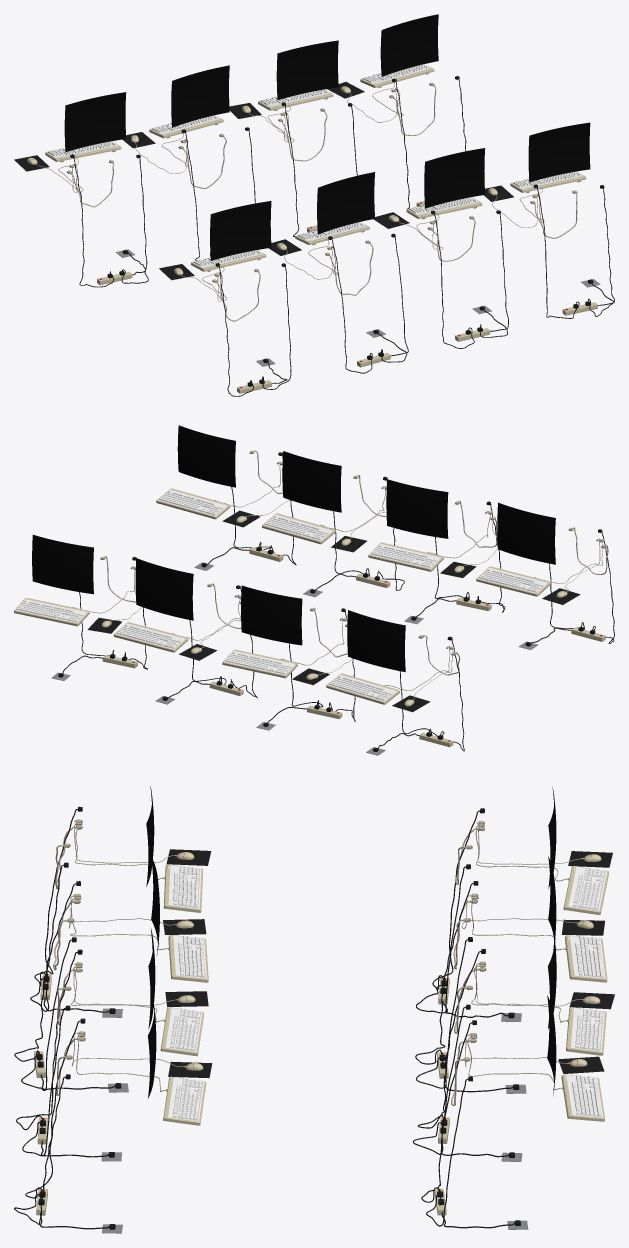
The model's file is FurnitureCharted.fbx.
The picture shows the model from 3 angles, top to bottom: view 1: azimuth 30°, elevation 25°; view 2: azimuth 150°, elevation 25°; view 3: azimuth 270°, elevation 25°; orthographic projection. The views are drawn at different scales.
Visible parts, largest first — view 1: Station 0 rest, Station 7 rest, Station 1 rest, Station 3 rest, Station 2 rest, Station 5 rest, Station 4 rest, Station 6 rest; view 2: Station 2 rest, Station 3 rest, Station 6 rest, Station 7 rest, Station 4 rest, Station 1 rest, Station 5 rest, Station 0 rest; view 3: Station 2 rest, Station 4 rest, Station 6 rest, Station 0 rest, Station 1 rest, Station 5 rest, Station 7 rest, Station 3 rest.
Part boxes in pixels (x1=…): Station 0 rest: x1=484, y1=122, x2=614, y2=318; Station 7 rest: x1=14, y1=92, x2=148, y2=287; Station 1 rest: x1=373, y1=148, x2=508, y2=348; Station 3 rest: x1=159, y1=201, x2=291, y2=396; Station 2 rest: x1=269, y1=172, x2=408, y2=373; Station 5 rest: x1=229, y1=40, x2=357, y2=236; Station 4 rest: x1=327, y1=14, x2=466, y2=209; Station 6 rest: x1=122, y1=65, x2=255, y2=260; Station 2 rest: x1=368, y1=479, x2=505, y2=623; Station 3 rest: x1=476, y1=502, x2=614, y2=649; Station 6 rest: x1=222, y1=585, x2=355, y2=730; Station 7 rest: x1=326, y1=610, x2=464, y2=755; Station 4 rest: x1=14, y1=534, x2=147, y2=680; Station 1 rest: x1=262, y1=451, x2=404, y2=597; Station 5 rest: x1=113, y1=558, x2=257, y2=704; Station 0 rest: x1=156, y1=425, x2=296, y2=570; Station 2 rest: x1=14, y1=856, x2=208, y2=1092; Station 4 rest: x1=421, y1=995, x2=604, y2=1229; Station 6 rest: x1=415, y1=856, x2=607, y2=1093; Station 0 rest: x1=14, y1=997, x2=212, y2=1233; Station 1 rest: x1=16, y1=928, x2=208, y2=1161; Station 5 rest: x1=413, y1=929, x2=614, y2=1161; Station 7 rest: x1=416, y1=786, x2=612, y2=1021; Station 3 rest: x1=30, y1=786, x2=211, y2=1017.
Size of the model in its own units: 3.91 by 1.34 by 3.61.
